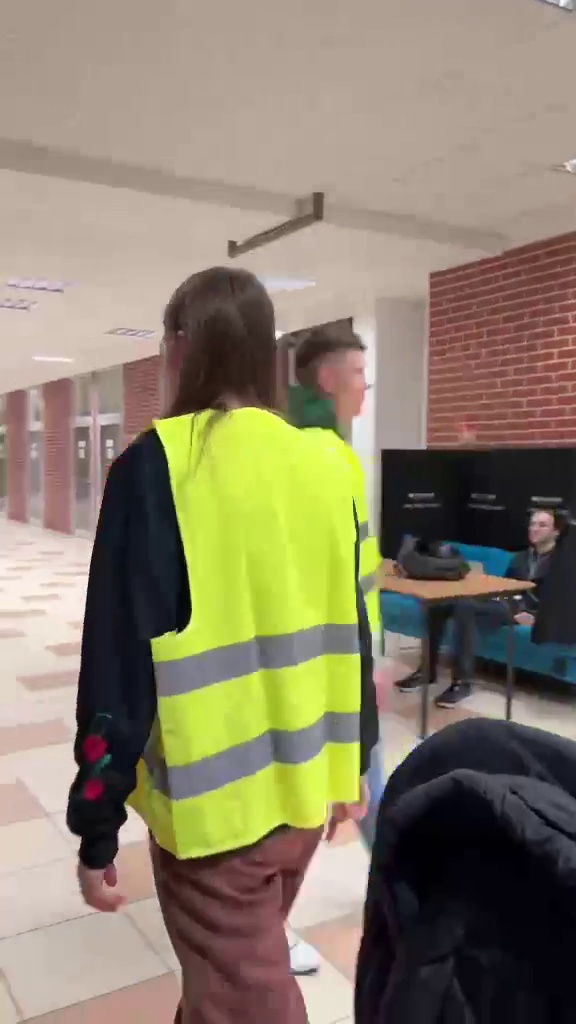no vest: (432, 486, 566, 707)
vest: (54, 256, 371, 1012)
